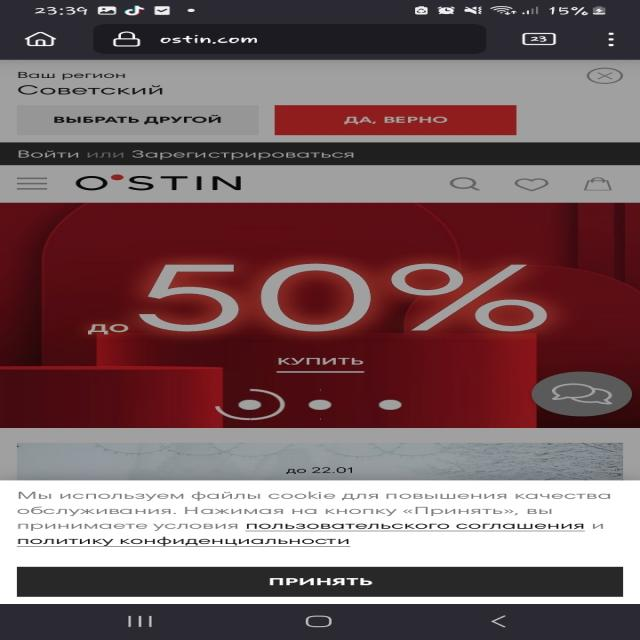button: (13, 565, 627, 599), (276, 104, 516, 137), (24, 105, 256, 136), (582, 68, 627, 84)
site: (0, 480, 640, 604), (0, 61, 640, 141)
